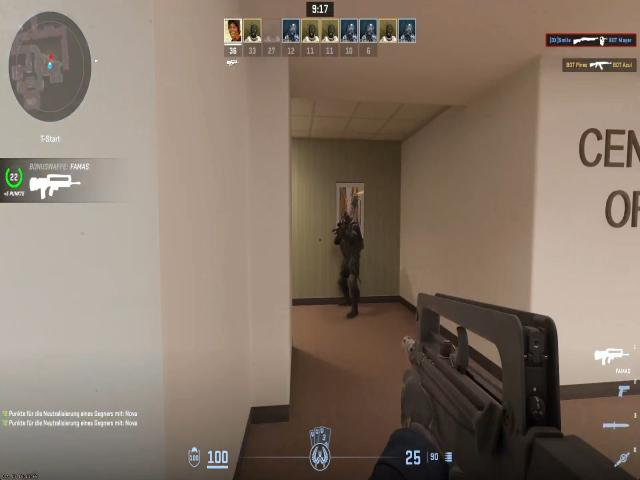CT: (334, 209, 366, 285)
CT-Head: (338, 212, 354, 232)
